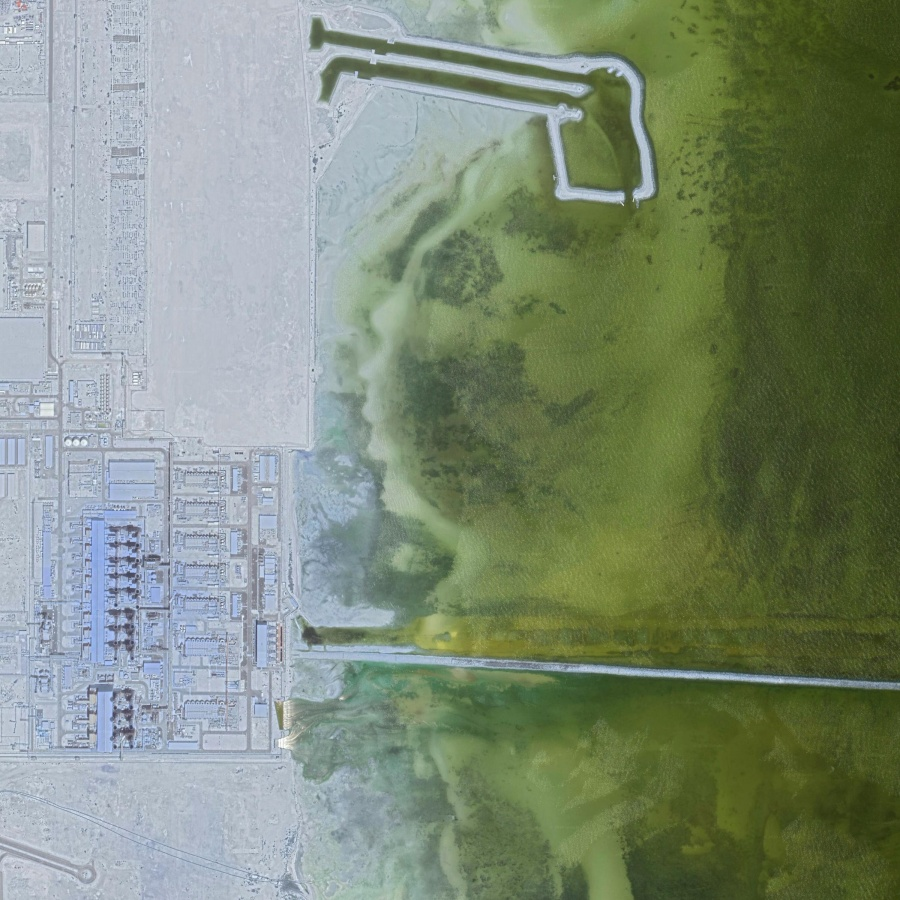PowerPlant: (52, 427, 314, 753)
